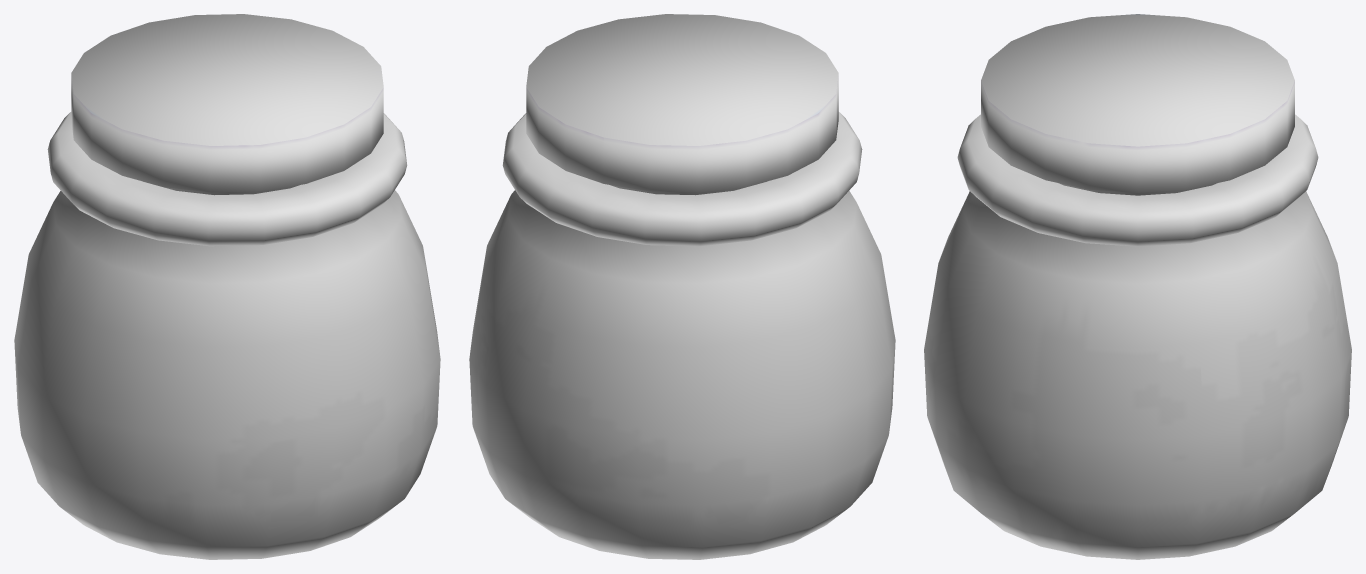
File: pi_glasspot09_butter.gltf
The picture shows the model from 3 angles, left to right: view 1: azimuth 30°, elevation 25°; view 2: azimuth 150°, elevation 25°; view 3: azimuth 270°, elevation 25°; orthographic projection.
Parts seen in each view (by area): view 1: pi_glasspot01_outside01_mesh_shape__duprename_f38e194x:pi_gl, pi_glasspot09_lid01_mesh_shape:pi_glasspot09_body; view 2: pi_glasspot01_outside01_mesh_shape__duprename_f38e194x:pi_gl, pi_glasspot09_lid01_mesh_shape:pi_glasspot09_body; view 3: pi_glasspot01_outside01_mesh_shape__duprename_f38e194x:pi_gl, pi_glasspot09_lid01_mesh_shape:pi_glasspot09_body.
Boxes of the visible parts, <box> form: pi_glasspot01_outside01_mesh_shape__duprename_f38e194x:pi_gl: <box>14,112,440,559</box>; pi_glasspot09_lid01_mesh_shape:pi_glasspot09_body: <box>71,14,383,195</box>; pi_glasspot01_outside01_mesh_shape__duprename_f38e194x:pi_gl: <box>469,112,895,559</box>; pi_glasspot09_lid01_mesh_shape:pi_glasspot09_body: <box>526,14,838,195</box>; pi_glasspot01_outside01_mesh_shape__duprename_f38e194x:pi_gl: <box>924,114,1351,559</box>; pi_glasspot09_lid01_mesh_shape:pi_glasspot09_body: <box>981,14,1294,195</box>.
Size of the model in its own units: 0.0943 by 0.0997 by 0.0943.
3 materials, 3 textured.
